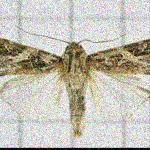Spodoptera litura: (0, 23, 149, 138)
